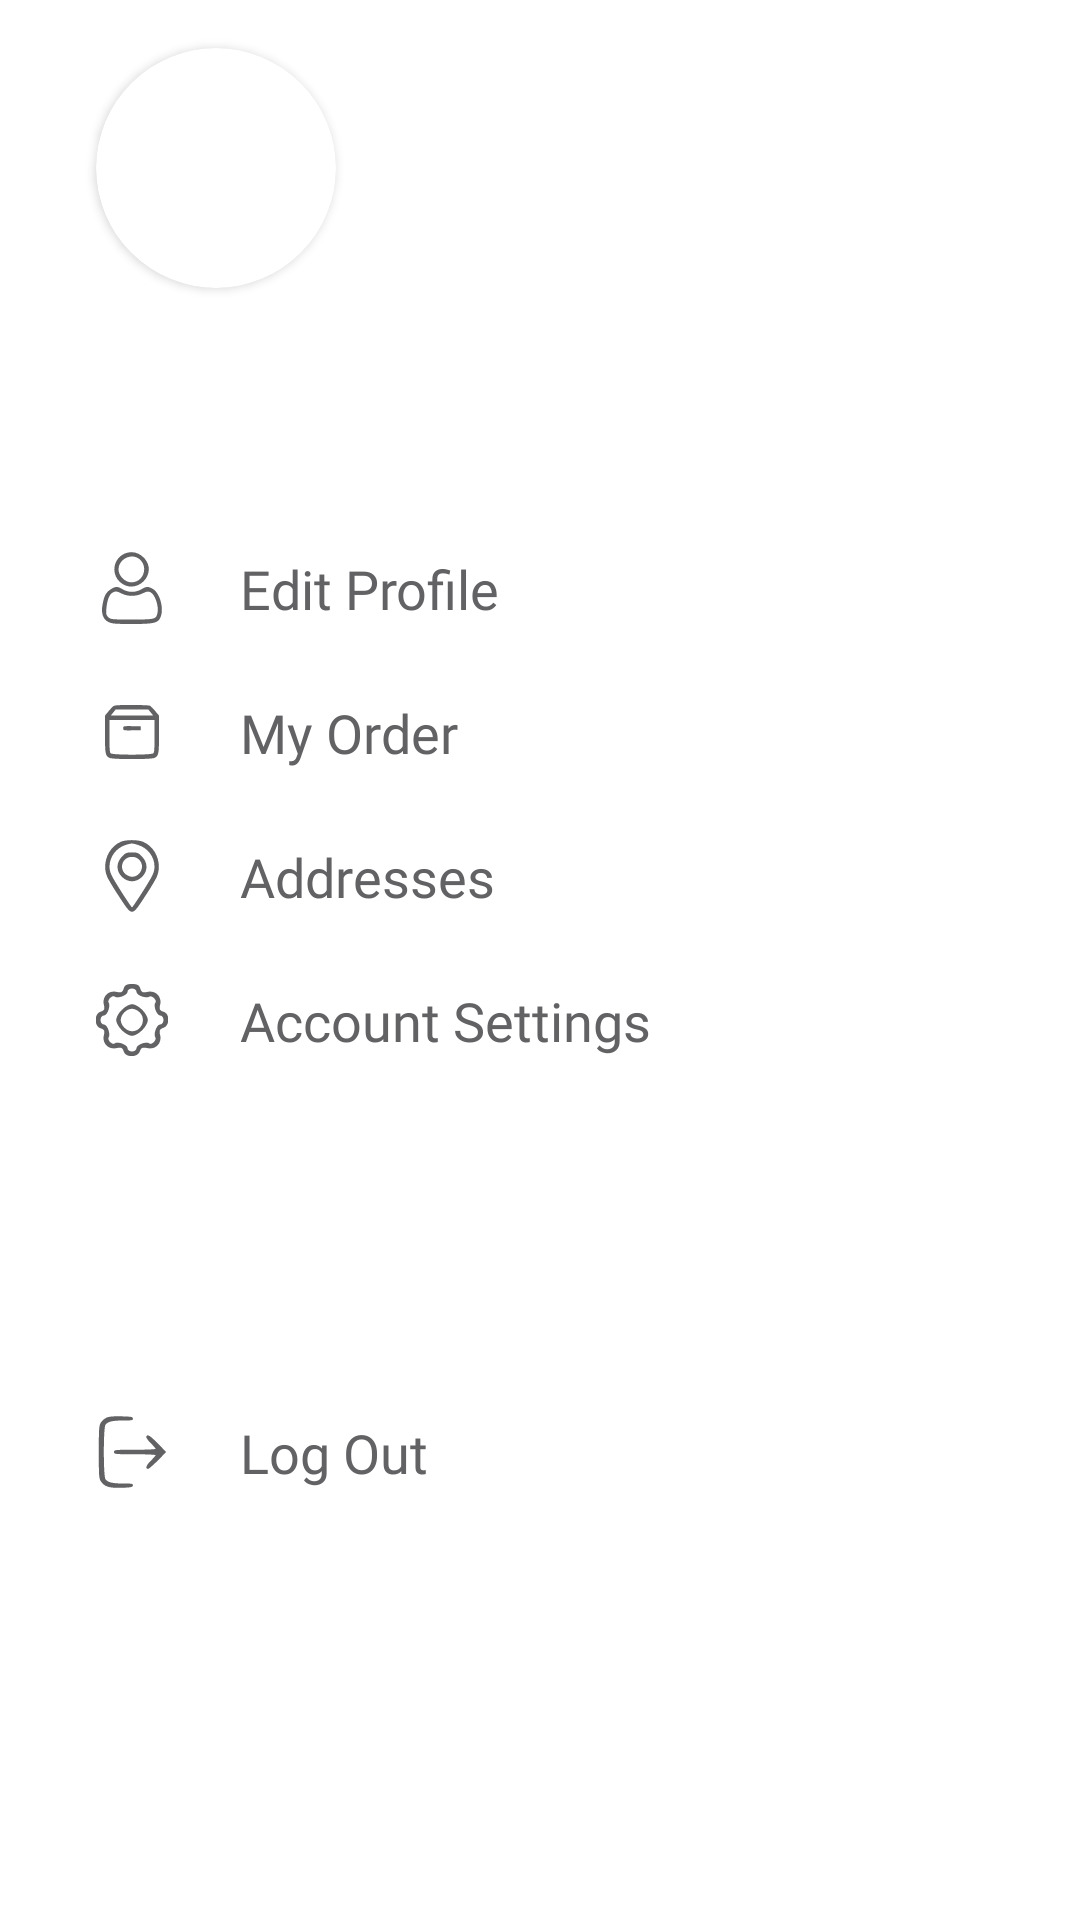

Icons on this 1080x1920 Android screen, each with its box as bbox(x1, y1, x2, y2):
orders: bbox(105, 705, 159, 759)
user: bbox(102, 552, 162, 624)
